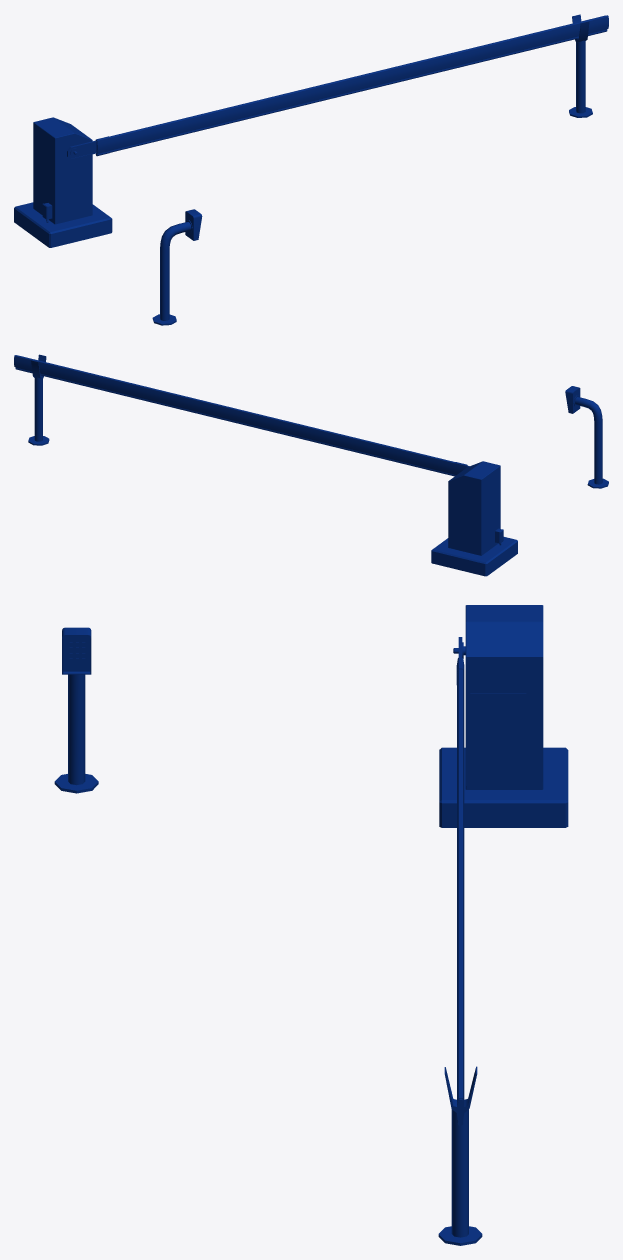
File: Parking Gate.FBX
The picture shows the model from 3 angles, top to bottom: view 1: azimuth 30°, elevation 25°; view 2: azimuth 150°, elevation 25°; view 3: azimuth 270°, elevation 25°; orthographic projection. The views are drawn at different scales.
Parts seen in each view (by area): view 1: GATE_Vehicle_Moving, GATE_Vehicle_Base, GATE_Access PinPad, GATE_Vehicle_Support; view 2: GATE_Vehicle_Moving, GATE_Vehicle_Base, GATE_Access PinPad, GATE_Vehicle_Support; view 3: GATE_Vehicle_Base, GATE_Access PinPad, GATE_Vehicle_Moving, GATE_Vehicle_Support.
Part boxes in pixels (x1,y1,x2,y2): GATE_Vehicle_Moving: (67, 15, 608, 159); GATE_Vehicle_Base: (14, 117, 112, 247); GATE_Access PinPad: (152, 209, 202, 325); GATE_Vehicle_Support: (569, 14, 592, 117); GATE_Vehicle_Moving: (14, 355, 469, 476); GATE_Vehicle_Base: (431, 461, 517, 576); GATE_Access PinPad: (565, 386, 608, 488); GATE_Vehicle_Support: (28, 354, 49, 445); GATE_Vehicle_Base: (439, 605, 568, 827); GATE_Access PinPad: (54, 627, 98, 793); GATE_Vehicle_Moving: (453, 637, 465, 1125); GATE_Vehicle_Support: (438, 1066, 482, 1245).
Size of the model in its own units: 232 by 40.02 by 104.
